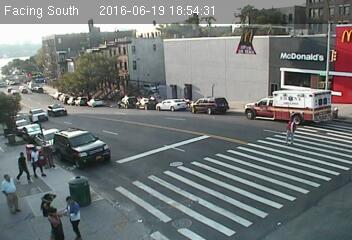neg: (324, 97, 348, 128), (177, 79, 198, 107), (94, 136, 112, 161), (31, 115, 46, 136), (319, 83, 334, 102), (32, 79, 46, 98), (74, 171, 88, 189), (2, 122, 15, 140), (102, 78, 114, 95), (117, 62, 129, 78), (55, 89, 66, 103)
pos: (30, 190, 63, 235), (55, 195, 86, 238), (8, 149, 35, 186), (22, 144, 48, 180), (41, 205, 66, 238), (280, 115, 303, 145)
